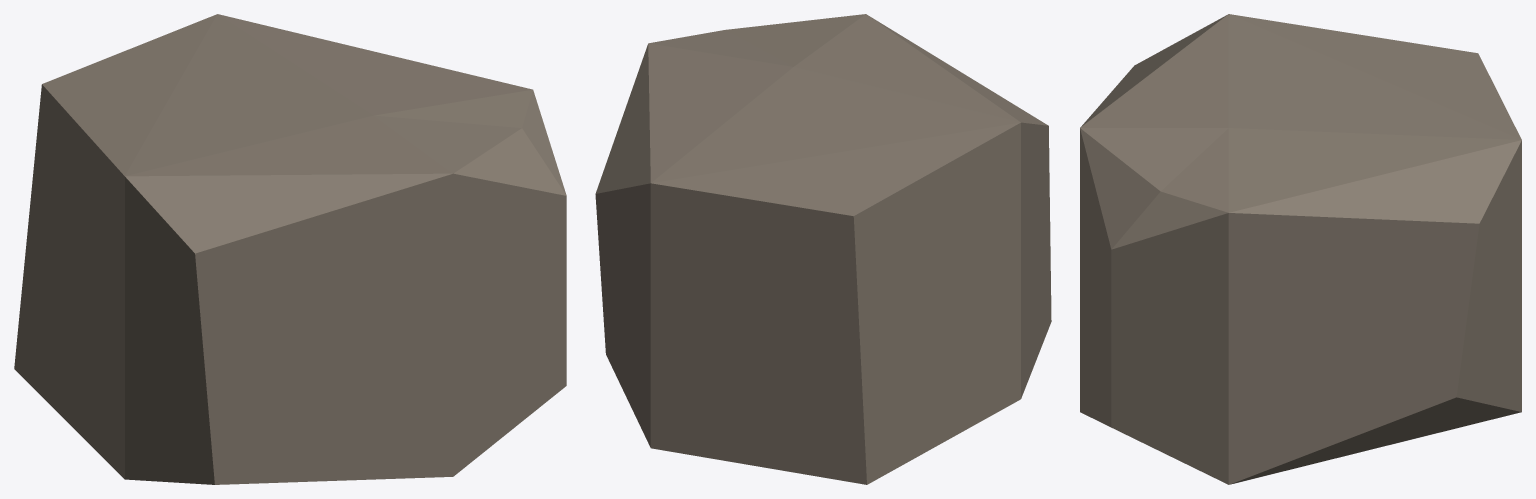
File: SM_Env_Rock_01.fbx
The picture shows the model from 3 angles, left to right: view 1: azimuth 30°, elevation 25°; view 2: azimuth 150°, elevation 25°; view 3: azimuth 270°, elevation 25°; orthographic projection. The views are drawn at different scales.
Visible parts, largest first — view 1: SM_Env_Rock_01; view 2: SM_Env_Rock_01; view 3: SM_Env_Rock_01.
Part boxes in pixels (x1=…): SM_Env_Rock_01: x1=14, y1=14, x2=566, y2=484; SM_Env_Rock_01: x1=595, y1=14, x2=1051, y2=484; SM_Env_Rock_01: x1=1080, y1=14, x2=1521, y2=484.
Size of the model in its own units: 113 by 83.15 by 113.
